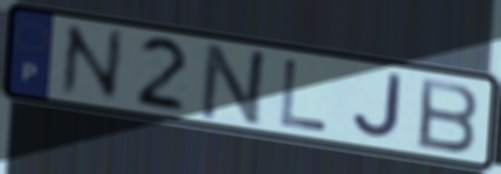2: (134, 34, 195, 119)
B: (415, 75, 483, 157)
J: (349, 71, 404, 143)
L: (276, 55, 332, 135)
N: (196, 40, 275, 130), (58, 20, 126, 103)
